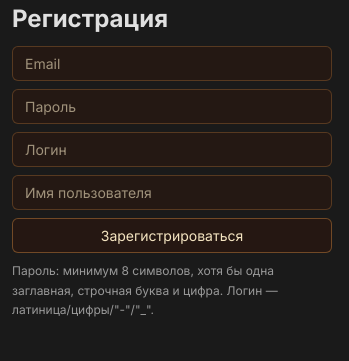
Test: RegisterForm › should validate login format when provided
Type "test@example.com" into the field with placeholder "Email" at (172, 64), box [12, 46, 332, 81]
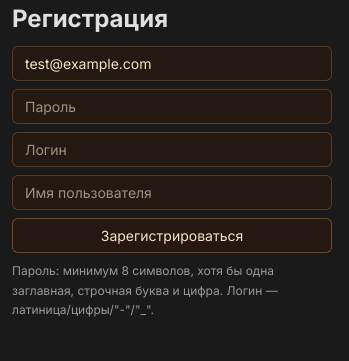
Type "Password123" into the password field with placeholder "Пароль" at (172, 107), box [12, 89, 332, 124]
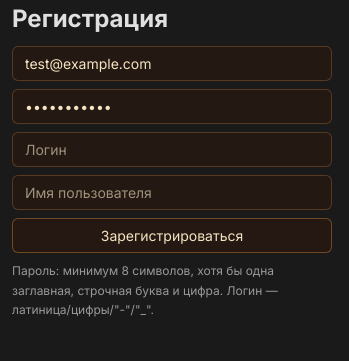
Type "invalid login!" into the field with placeholder "Логин" at (172, 150), box [12, 132, 332, 167]
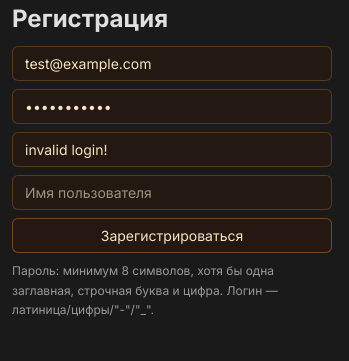
Click the button "Зарегистрироваться" at (172, 236), box [12, 218, 332, 253]
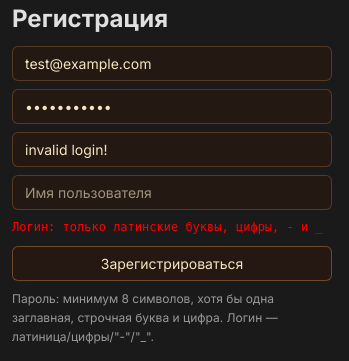
Expected: the text "Логин: только латинские буквы, цифры, - и _" is shown, [12, 218, 332, 238]
